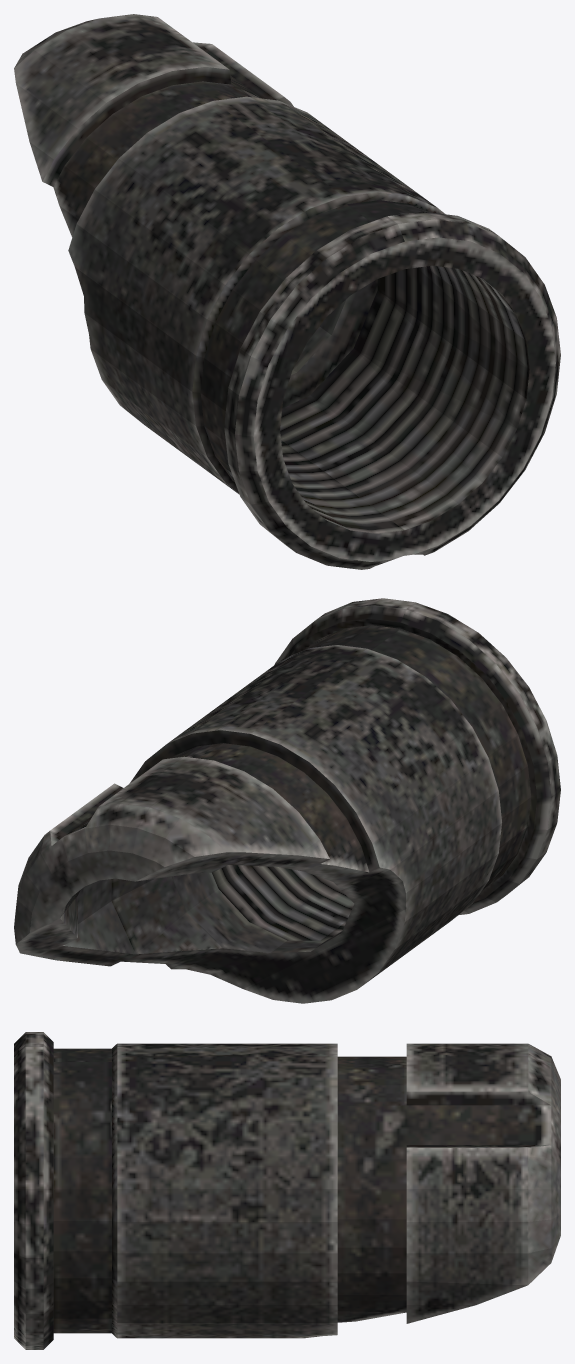
3 views of the same model, one above another, from view 1: azimuth 30°, elevation 25°; view 2: azimuth 150°, elevation 25°; view 3: azimuth 270°, elevation 25° (orthographic). The views are drawn at different scales.
Parts seen in each view (by area): view 1: TW_59d64fc686f774171b243fe2_PZ_Import; view 2: TW_59d64fc686f774171b243fe2_PZ_Import; view 3: TW_59d64fc686f774171b243fe2_PZ_Import.
Part boxes in pixels (bbox=[...]): TW_59d64fc686f774171b243fe2_PZ_Import: bbox=[14, 14, 560, 569]; TW_59d64fc686f774171b243fe2_PZ_Import: bbox=[14, 598, 560, 1003]; TW_59d64fc686f774171b243fe2_PZ_Import: bbox=[14, 1032, 560, 1349].
Bounding box in the file's own units: 0.0105 × 0.0181 × 0.0104.
1 material, 1 textured.
